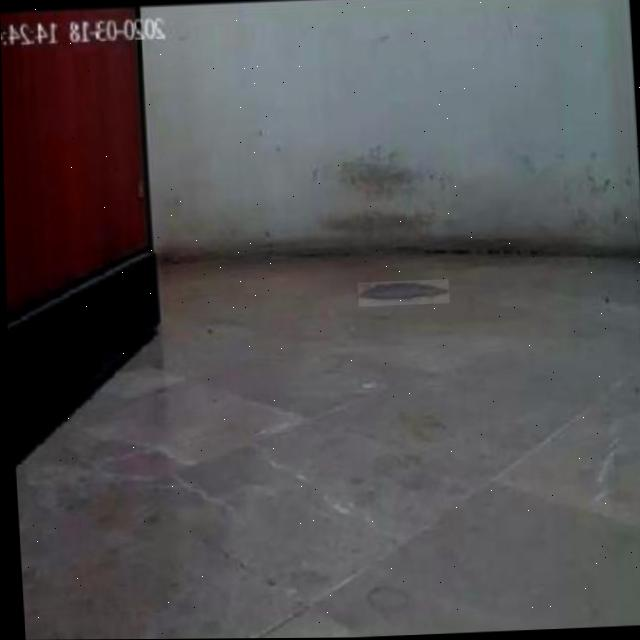spillage: (356, 282, 447, 305)
